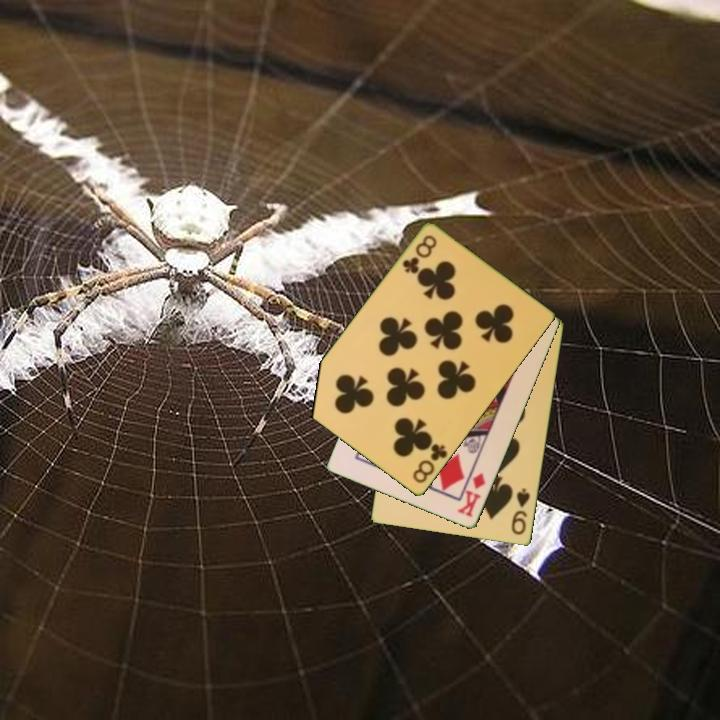8c: (409, 440, 451, 487), (399, 232, 440, 277)
9s: (508, 485, 533, 538)
Kd: (454, 469, 488, 520)
